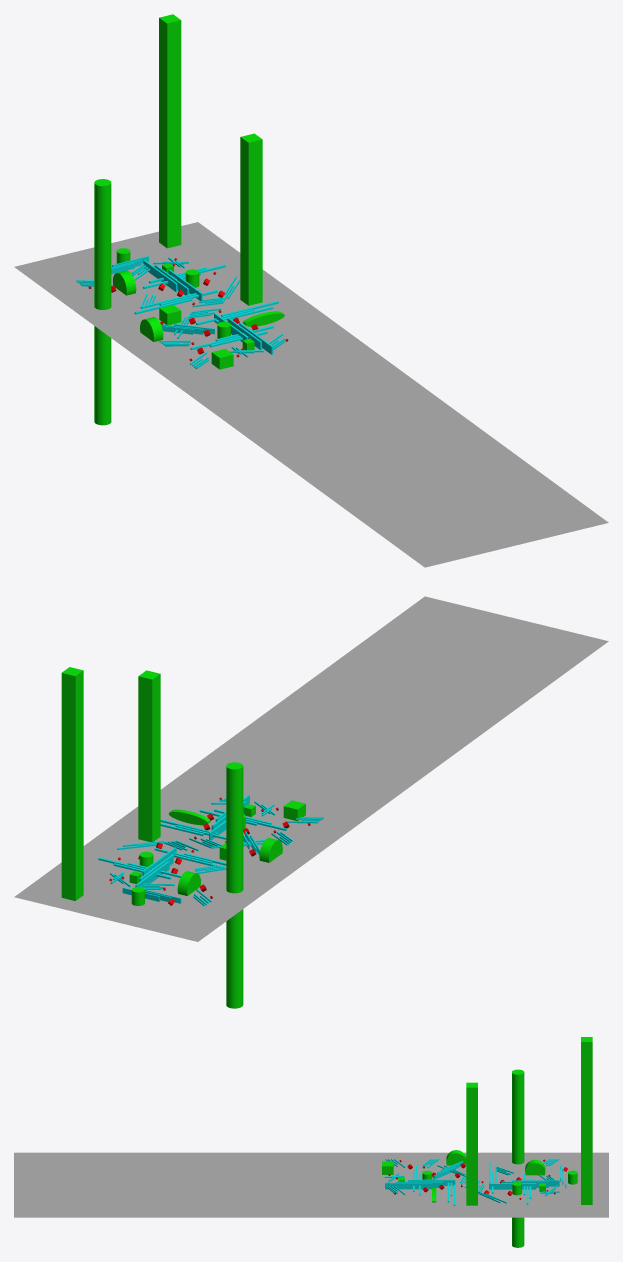
Rendered from environment.fbx.
The picture shows the model from 3 angles, top to bottom: view 1: azimuth 30°, elevation 25°; view 2: azimuth 150°, elevation 25°; view 3: azimuth 270°, elevation 25°; orthographic projection. The views are drawn at different scales.
Visible parts, largest first — view 1: bridge, pillarBack, pillarCylinder, pillarBlockFront, polySurface11, pCube101; view 2: bridge, pillarBack, pillarCylinder, pillarBlockFront, polySurface11, pCube101; view 3: bridge, pillarBack, pillarCylinder, pillarBlockFront, pCube101, polySurface11, pCube10.
Part boxes in pixels (x1,y1,x2,y2): bridge: (14, 222, 608, 567); pillarBack: (159, 14, 181, 248); pillarCylinder: (94, 179, 111, 425); pillarBlockFront: (240, 133, 262, 305); polySurface11: (131, 260, 225, 314); pCube101: (190, 301, 284, 354); bridge: (14, 596, 608, 941); pillarBack: (61, 667, 83, 900); pillarCylinder: (226, 762, 243, 1008); pillarBlockFront: (138, 670, 160, 841); polySurface11: (98, 847, 226, 889); pCube101: (160, 795, 286, 840); bridge: (14, 1152, 608, 1217); pillarBack: (581, 1037, 592, 1204); pillarCylinder: (512, 1069, 524, 1247); pillarBlockFront: (466, 1082, 477, 1205); pCube101: (385, 1164, 455, 1205); polySurface11: (489, 1162, 559, 1204); pCube10: (433, 1161, 466, 1187).
Size of the model in its own units: 24.05 by 42.47 by 93.01.
